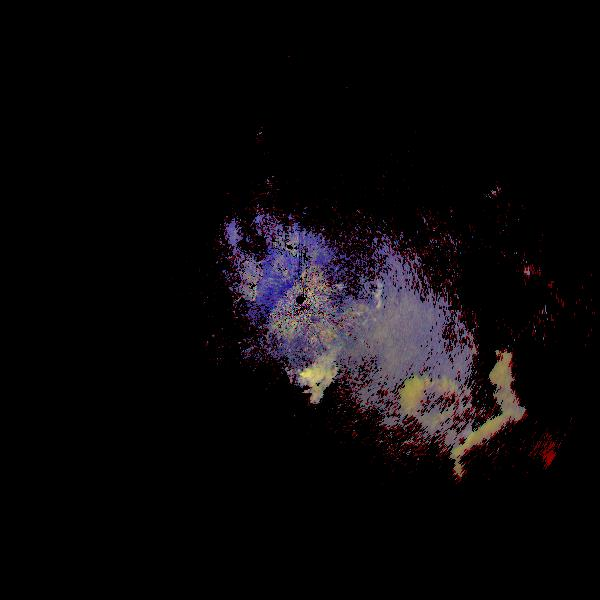roost: (426, 397, 591, 562), (471, 309, 600, 465), (371, 361, 497, 487)
